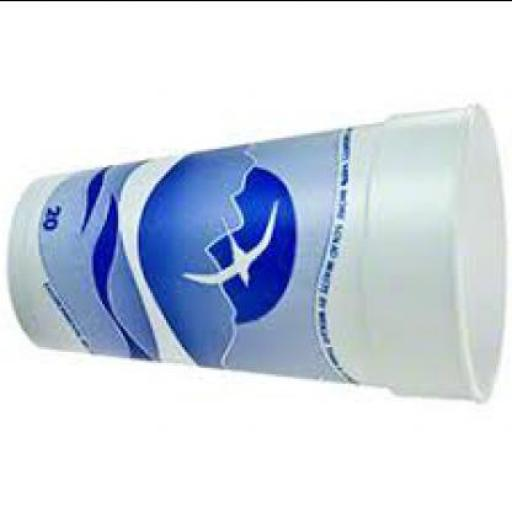paper: (11, 100, 510, 401)
